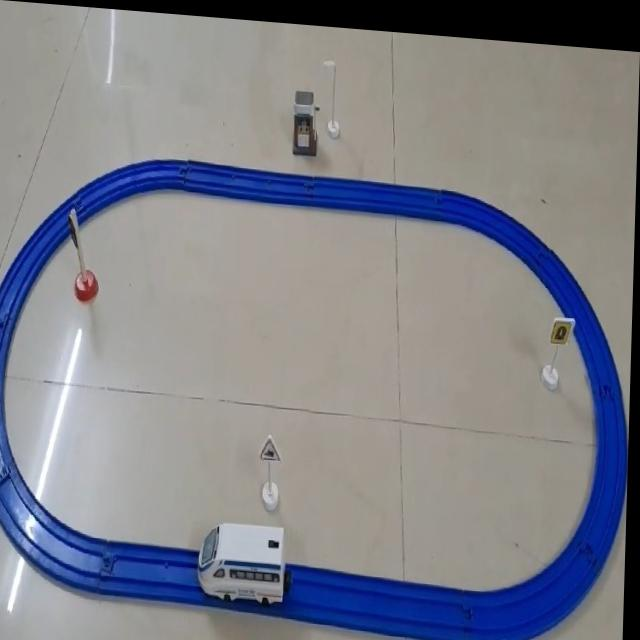bus: (200, 514, 294, 602)
